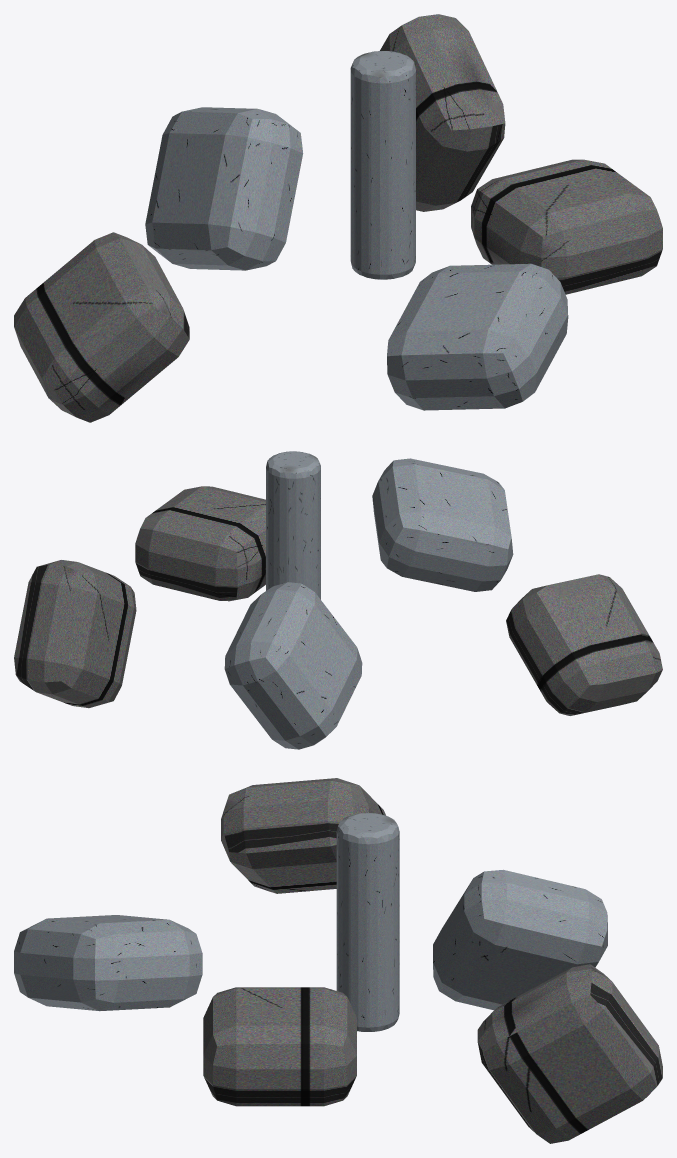
The model's file is debris_cluster.glb.
3 renders of one model, top to bottom at view 1: azimuth 30°, elevation 25°; view 2: azimuth 150°, elevation 25°; view 3: azimuth 270°, elevation 25°, orthographic. The views are drawn at different scales.
Parts seen in each view (by area): view 1: Debris1, Debris2, Debris3, Debris0, DebrisPipe, Debris4; view 2: Debris3, Debris2, Debris1, Debris4, Debris0, DebrisPipe; view 3: Debris4, Debris3, Debris0, Debris1, DebrisPipe, Debris2.
Boxes of the visible parts, x1,y1,x2,y2 form: Debris1: (387,263,568,410); Debris2: (14,232,189,422); Debris3: (145,107,303,270); Debris0: (471,159,662,294); DebrisPipe: (350,51,415,279); Debris4: (380,14,505,211); Debris3: (224,582,362,749); Debris2: (506,574,662,715); Debris1: (372,458,513,591); Debris4: (14,560,136,708); Debris0: (135,486,265,601); DebrisPipe: (266,451,320,599); Debris4: (477,964,662,1143); Debris3: (433,869,607,1010); Debris0: (203,987,356,1106); Debris1: (14,915,202,1011); DebrisPipe: (336,813,399,1031); Debris2: (221,778,385,893).
Size of the model in its own units: 5.97 by 2.45 by 5.9.
2 materials, 2 textured.
